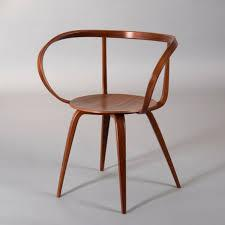chair: (25, 24, 191, 217)
